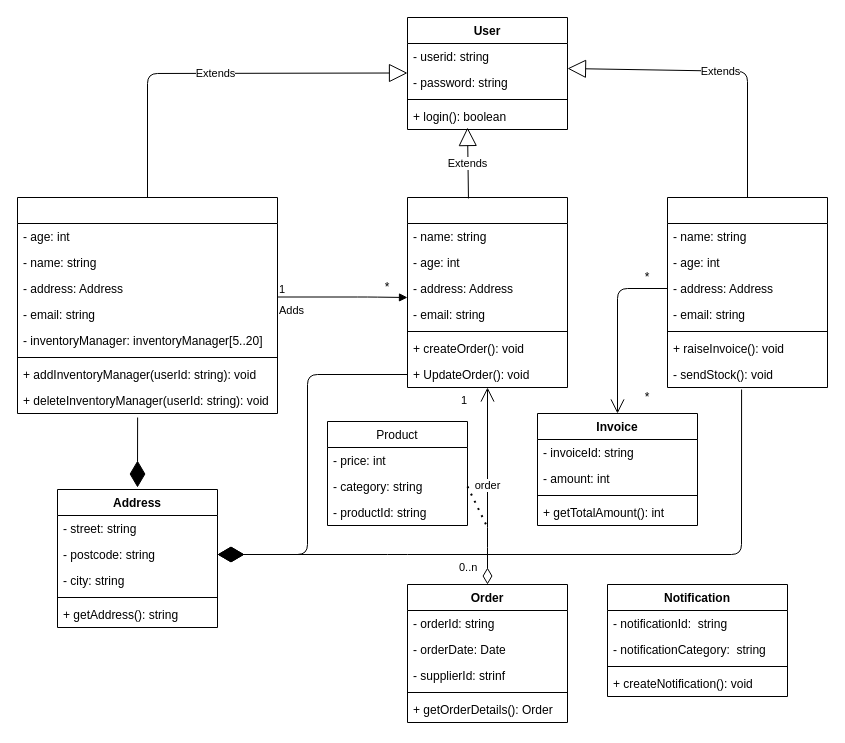
The diagram is 845 pixels wide and 743 high, and some of its shapes have lost their labels. The shapes that lost their labels are listed below. From the top down, each one's box as (x1, y1, x2, y2) in pixels, then its label:
(16, 196, 278, 414): Admin
(406, 196, 568, 388): Inventory/Manager
(666, 196, 828, 388): Supplier
